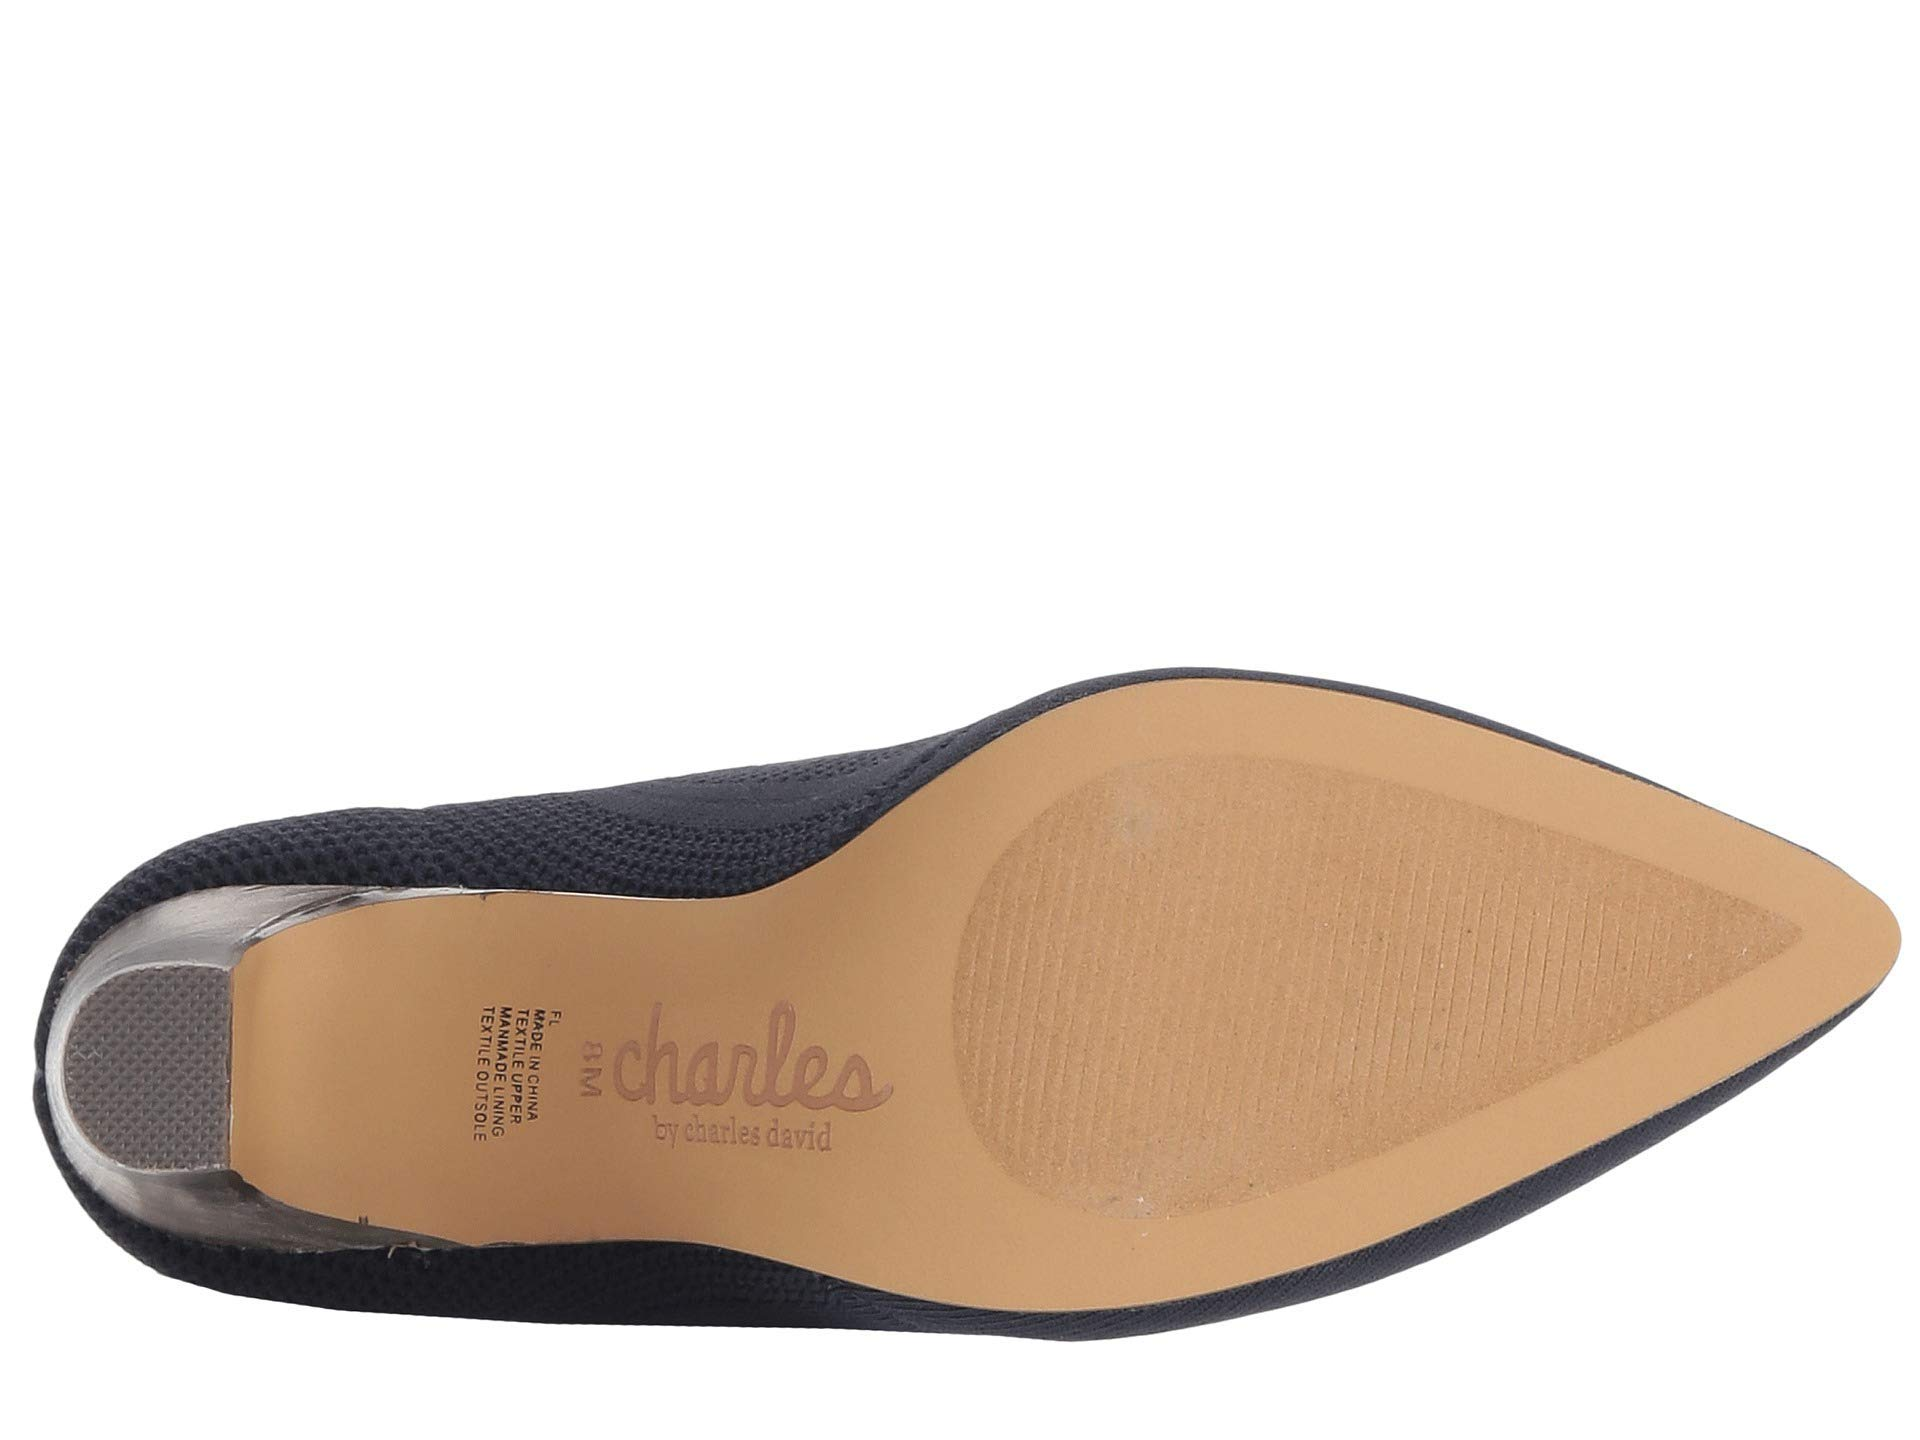line: (1034, 867, 1336, 1128)
